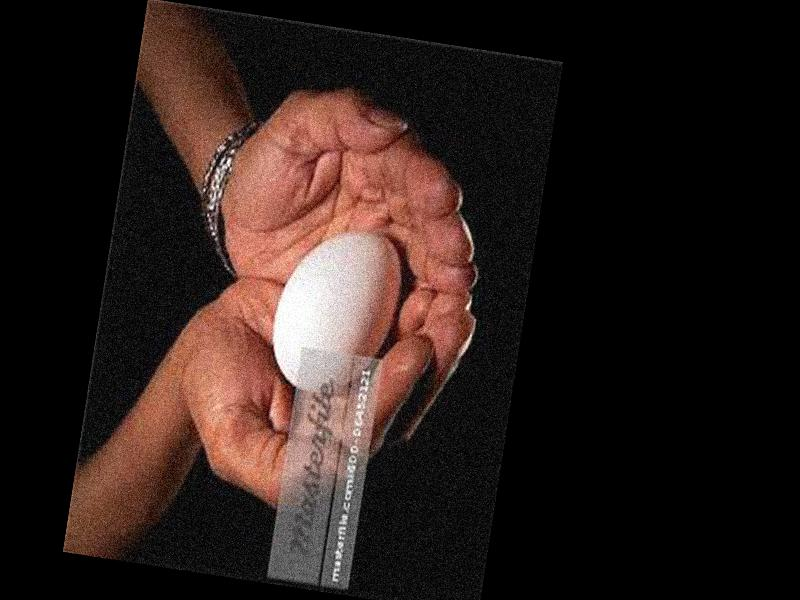Eggs: (267, 219, 410, 397)
